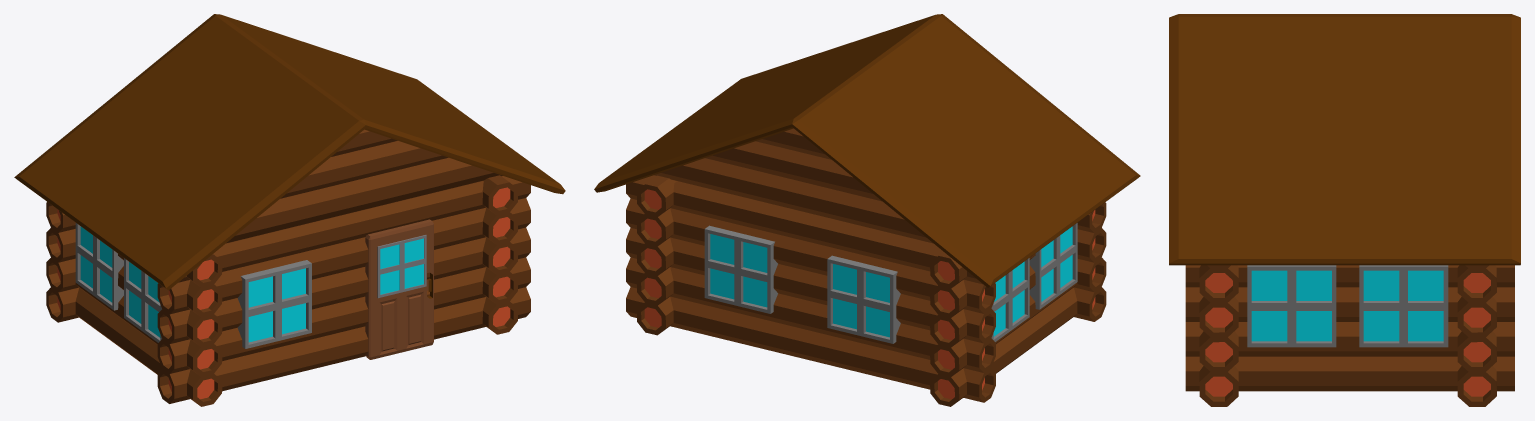
Rendered from lowpoly_cabin.glb.
The picture shows the model from 3 angles, left to right: view 1: azimuth 30°, elevation 25°; view 2: azimuth 150°, elevation 25°; view 3: azimuth 270°, elevation 25°; orthographic projection. The views are drawn at different scales.
Visible parts, largest first — view 1: Cube_1, Cylinder.003_0, Cube.001_4, Cube.005_6, Cube.002_2, Cylinder.000_3, Cube.004_5; view 2: Cube_1, Cylinder.003_0, Cube.002_2, Cube.001_4, Cylinder.000_3; view 3: Cube_1, Cylinder.003_0, Cube.001_4, Cube.002_2, Cylinder.000_3.
Part boxes in pixels (left/top/right/bottom): Cube_1: left=14, top=14, right=565, bottom=290; Cylinder.003_0: left=46, top=129, right=530, bottom=406; Cube.001_4: left=80, top=226, right=423, bottom=342; Cube.005_6: left=365, top=219, right=433, bottom=359; Cube.002_2: left=75, top=223, right=311, bottom=348; Cylinder.000_3: left=57, top=187, right=510, bottom=399; Cube.004_5: left=377, top=235, right=426, bottom=298; Cube_1: left=594, top=14, right=1140, bottom=287; Cylinder.003_0: left=626, top=128, right=1106, bottom=406; Cube.002_2: left=704, top=223, right=1077, bottom=343; Cube.001_4: left=710, top=226, right=1072, bottom=337; Cylinder.000_3: left=644, top=189, right=1095, bottom=399; Cube_1: left=1169, top=14, right=1520, bottom=265; Cylinder.003_0: left=1185, top=265, right=1514, bottom=406; Cube.001_4: left=1251, top=270, right=1443, bottom=341; Cube.002_2: left=1247, top=265, right=1448, bottom=347; Cylinder.000_3: left=1205, top=273, right=1490, bottom=396.
Size of the model in its own units: 25.25 by 15.13 by 16.61.
